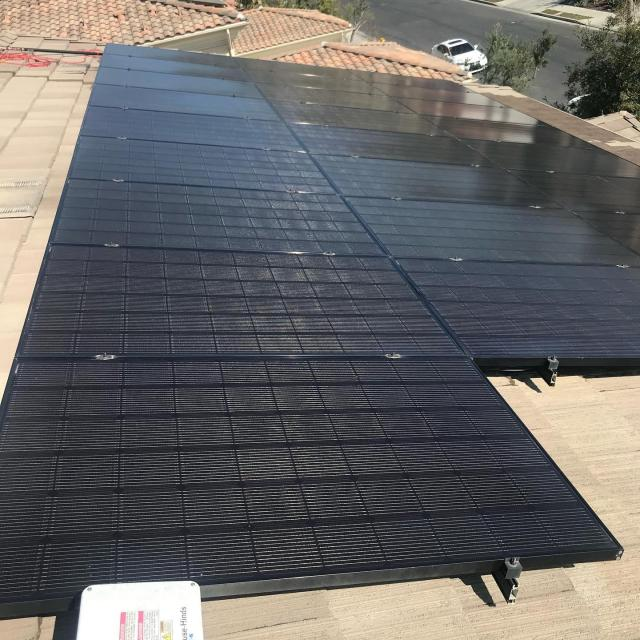clean-solar-panel: (0, 45, 640, 618)
